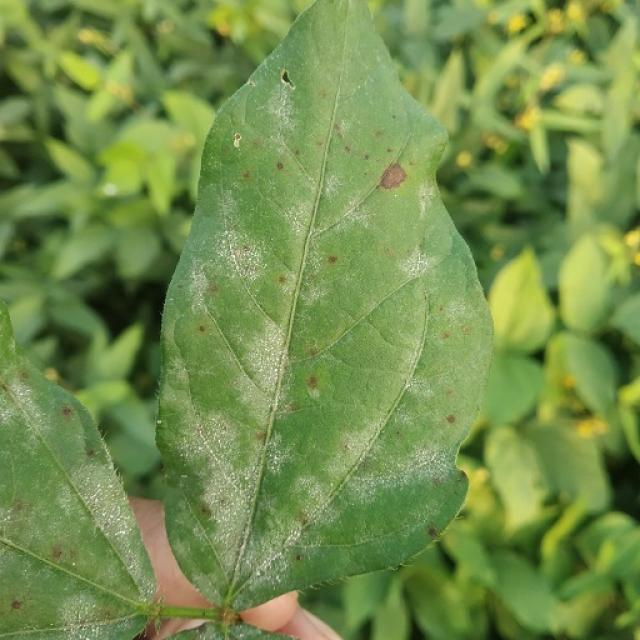Blackgram: (153, 5, 497, 616)
Powdery_Mildew: (186, 381, 376, 597), (321, 428, 442, 535), (183, 379, 268, 503), (75, 455, 140, 552), (3, 367, 66, 465), (230, 295, 289, 399), (380, 409, 450, 491), (259, 88, 310, 182), (0, 486, 52, 572), (224, 222, 279, 290), (426, 277, 477, 349), (215, 218, 263, 293), (46, 579, 110, 630), (243, 538, 287, 590), (263, 437, 302, 493), (389, 239, 435, 284), (84, 479, 122, 528), (409, 249, 429, 276), (282, 525, 304, 549), (111, 525, 129, 544)
